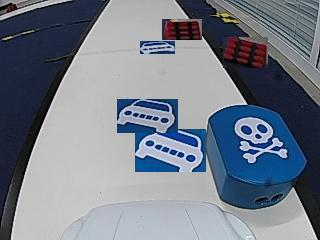danger: (237, 120, 285, 163)
